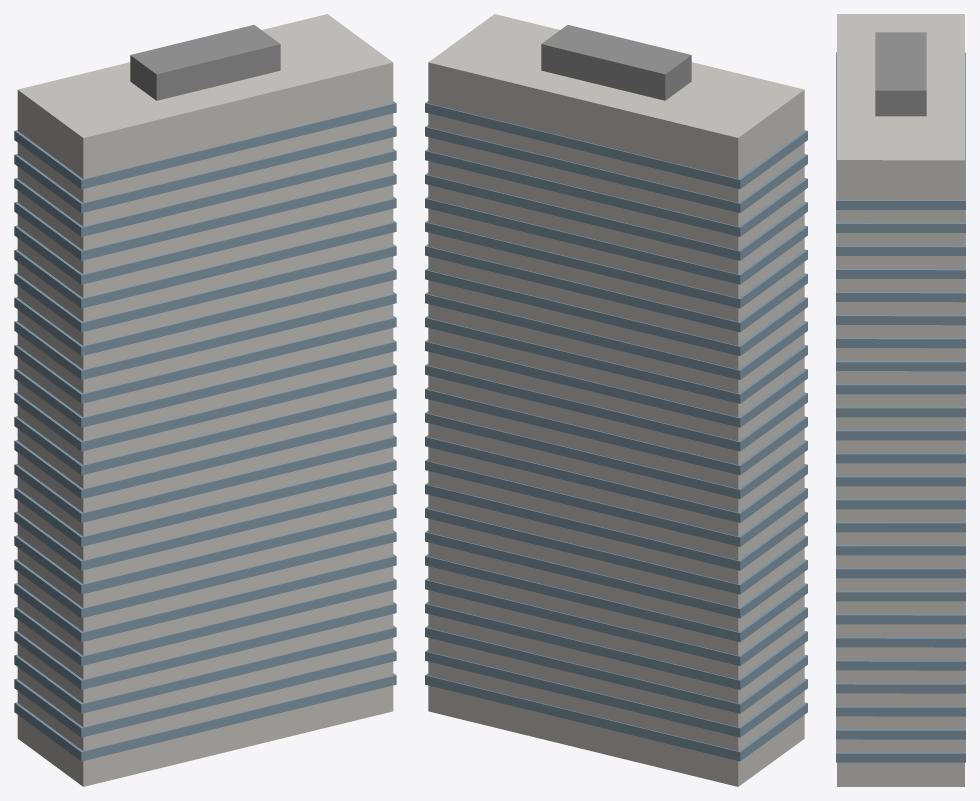
The model's file is landmark-basel-claraturm.fad6578df7.glb.
3 views of the same model, side by side, from view 1: azimuth 30°, elevation 25°; view 2: azimuth 150°, elevation 25°; view 3: azimuth 270°, elevation 25° (orthographic). The views are drawn at different scales.
Visible parts, largest first — view 1: building; view 2: building; view 3: building.
Boxes of the visible parts, bbox=[...] form: building: bbox=[14, 14, 396, 786]; building: bbox=[425, 14, 807, 786]; building: bbox=[836, 14, 965, 786].
Bounding box in the file's own units: 49.85 × 102 × 18.42.
